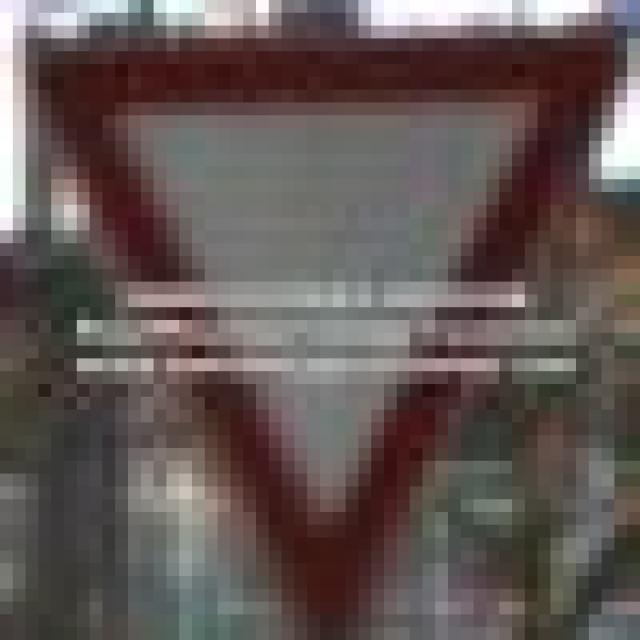GIVE_WAY: (13, 13, 614, 627)
